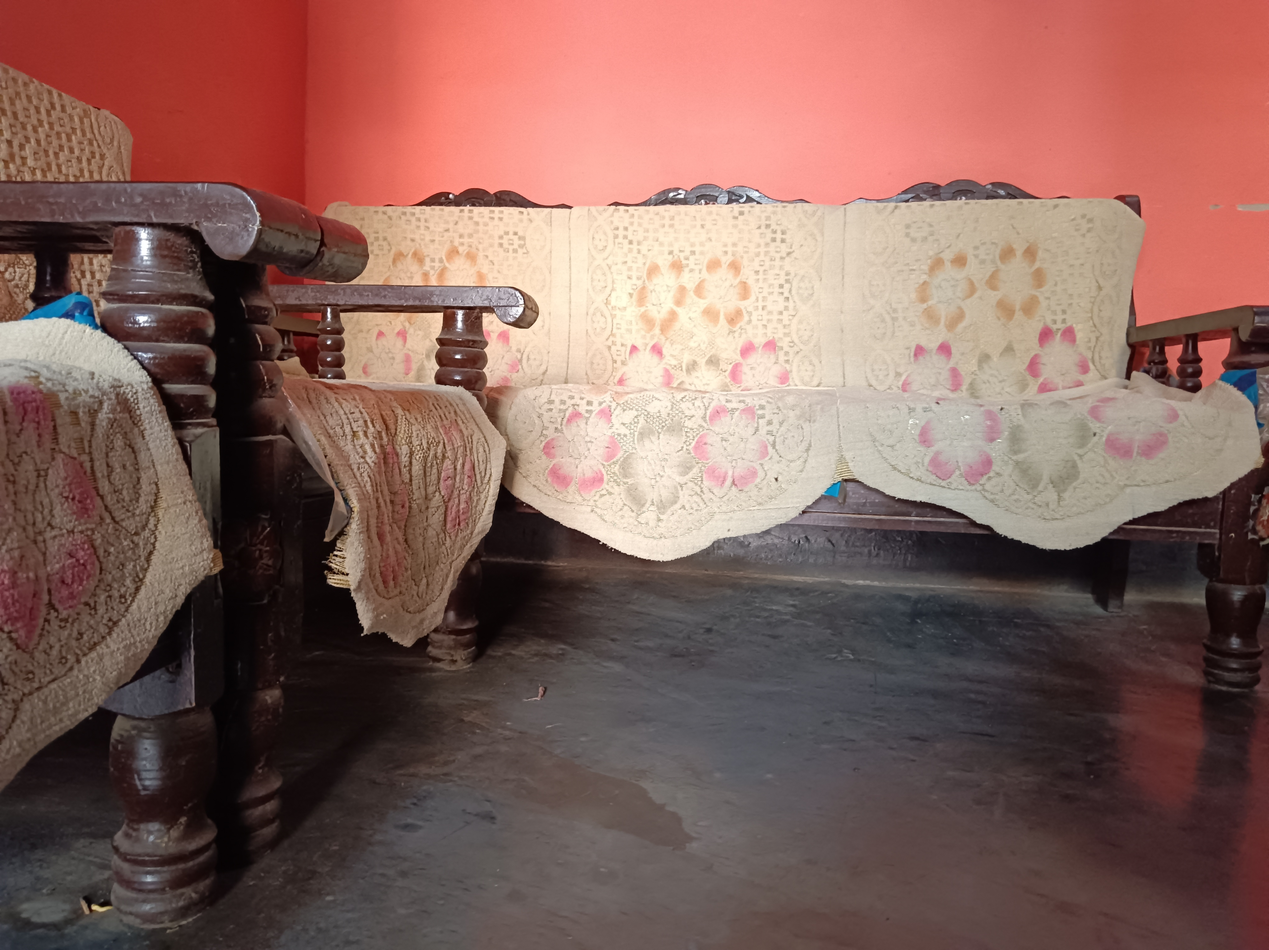sofa: (315, 186, 1269, 692), (0, 179, 309, 950), (235, 191, 537, 848)
